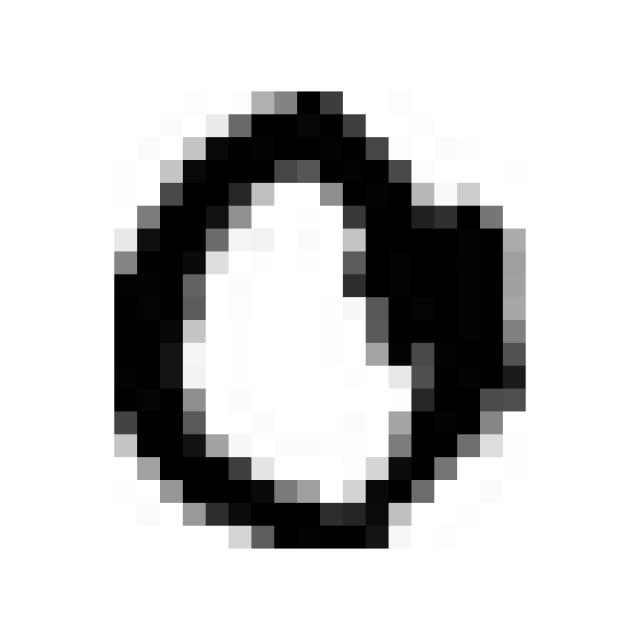5 -five-: (96, 73, 543, 564)
